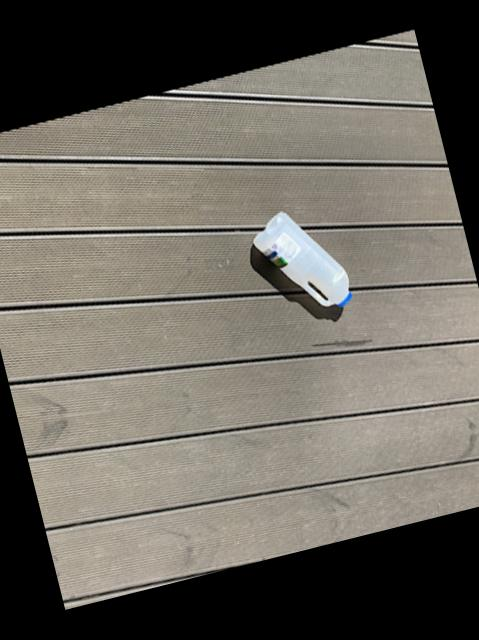plastic: (251, 214, 346, 308)
